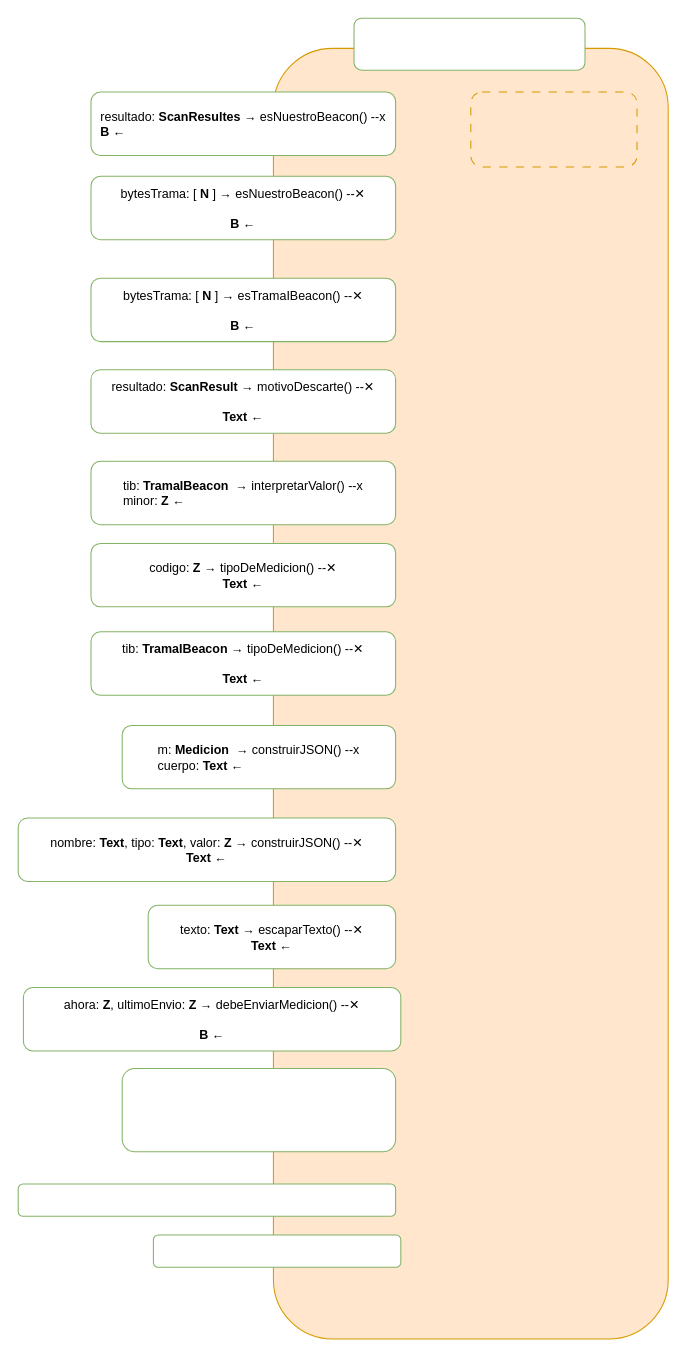
The diagram is 686 pixels wide and 1357 high, and some of its shapes have lost their labels. The box of each missing label's shape, as (x1, y1, x2, y2) in pixels:
AnalizadorBeacons: (353, 17, 585, 70)
COMPANY_ID_APPLE: N TAM_UUID: N ETIQUETA_LOG: Text: (470, 91, 637, 167)
cuerpo: Text → mostrarJSON() --✕: (152, 1234, 401, 1267)
host: Text → puerto: N → ruta: Text → construirURL() --x url: Text ←: (121, 1068, 396, 1152)
tib: TramaIBeacon → mostrarTrama() --x: (17, 1183, 396, 1216)
